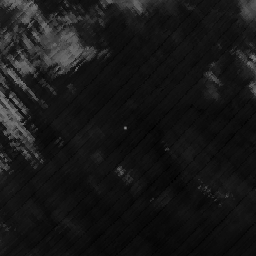Target: (122, 124, 128, 131)
